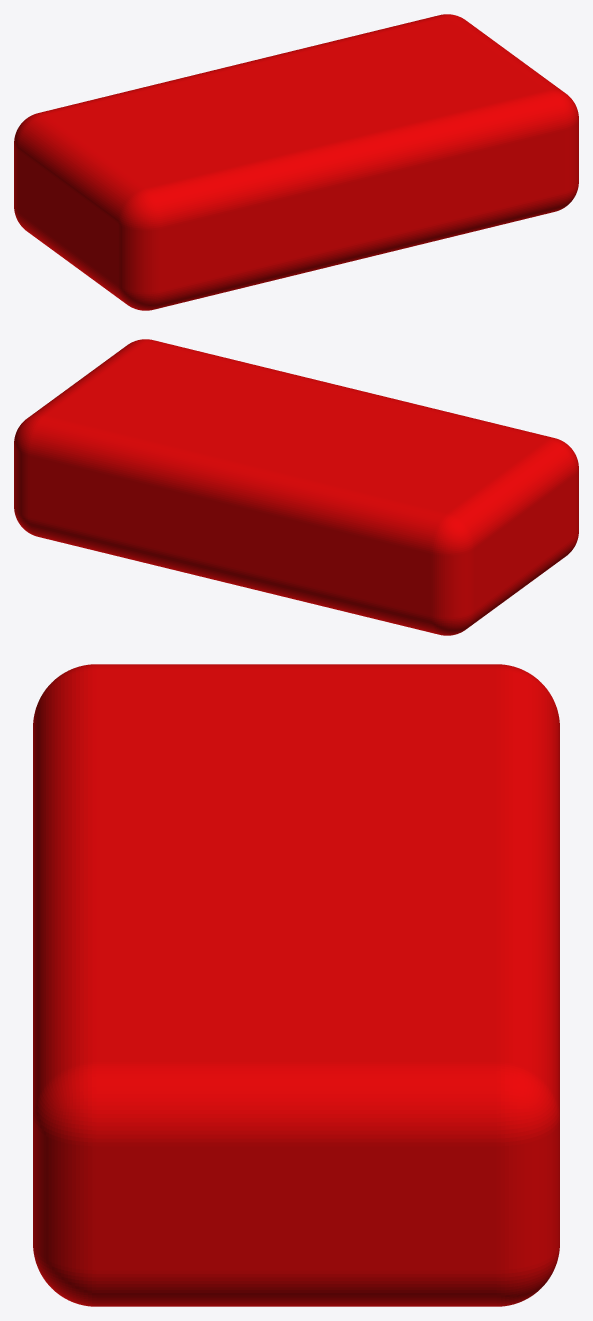
File: BlockRed.fbx
3 views of the same model, one above another, from view 1: azimuth 30°, elevation 25°; view 2: azimuth 150°, elevation 25°; view 3: azimuth 270°, elevation 25° (orthographic). The views are drawn at different scales.
Parts seen in each view (by area): view 1: Cube.003; view 2: Cube.003; view 3: Cube.003.
Part boxes in pixels (<box>): Cube.003: <box>14,14,578,310</box>; Cube.003: <box>14,339,578,635</box>; Cube.003: <box>33,664,559,1306</box>.
Size of the model in its own units: 4 by 1 by 2.
